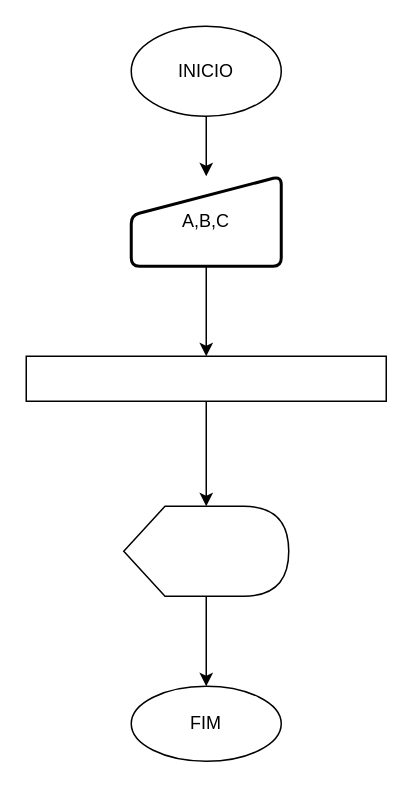
Some shapes in this 413 by 788 pixel diagram are drawn without their labels. The shapes that lost their labels are listed below. From the top down, each one's centre as x and y in pixels, then its label:
the point at 205,378: RESULTADO<-(A^2) + (B^2) + (C^2)
the point at 205,550: RESULTADO
